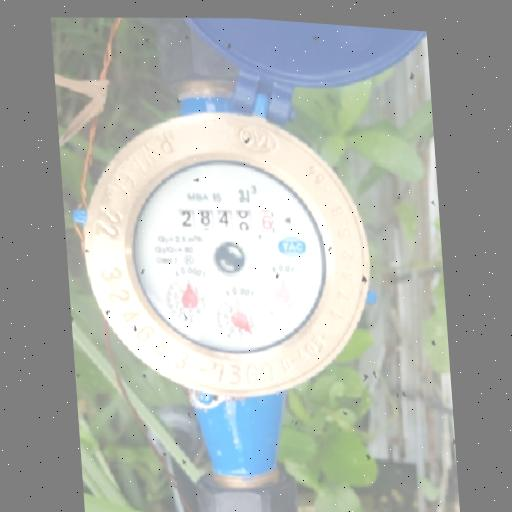2: (180, 209, 196, 231)
4: (219, 209, 233, 232)
6: (260, 208, 275, 233)
8: (199, 209, 214, 232), (238, 209, 253, 232)
border_water_meter_number: (177, 201, 277, 241)
